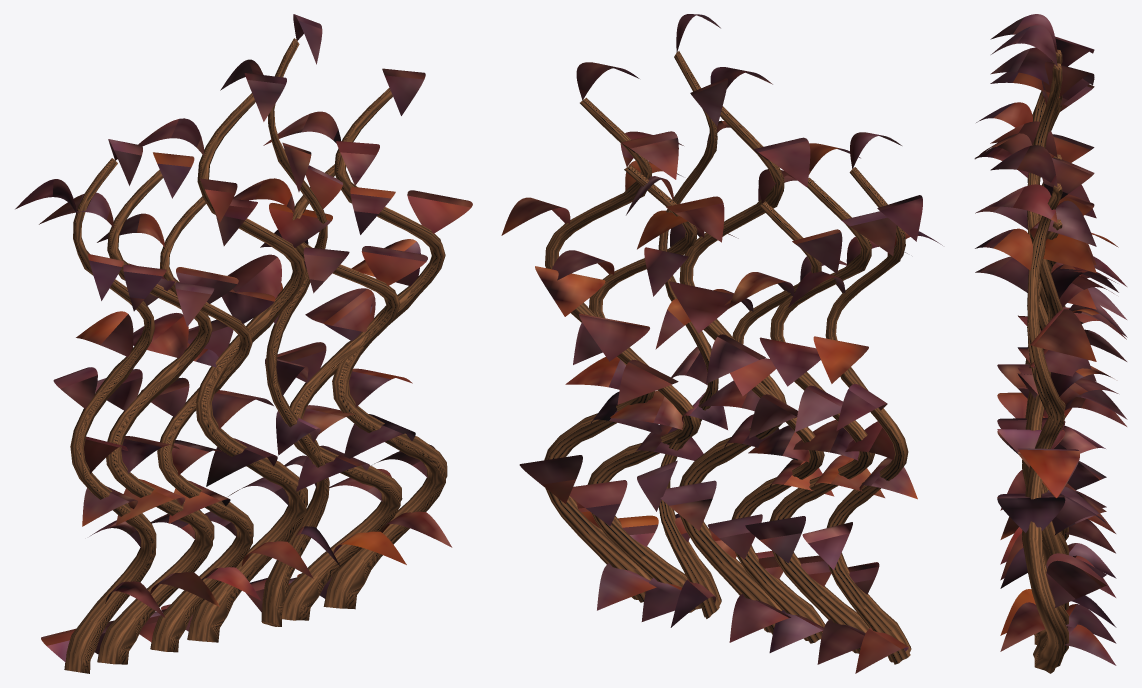
File: rustvine_02.glb
3 views of the same model, side by side, from view 1: azimuth 30°, elevation 25°; view 2: azimuth 150°, elevation 25°; view 3: azimuth 270°, elevation 25° (orthographic). The views are drawn at different scales.
Visible parts, largest first — view 1: export; view 2: export; view 3: export.
Part boxes in pixels (left/top/right/bottom): export: left=15, top=14, right=472, bottom=673; export: left=501, top=14, right=942, bottom=673; export: left=974, top=14, right=1127, bottom=673.
Bounding box in the file's own units: 2.36 × 3.18 × 0.7148.
Materials: 2 (2 with a texture image).
